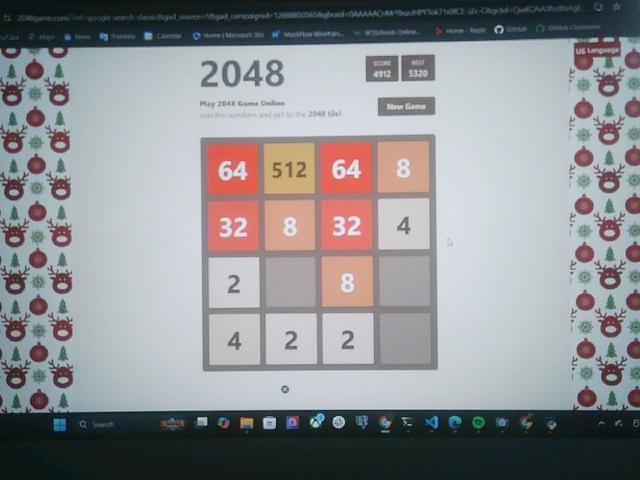board: (201, 137, 438, 372)
tile: (320, 141, 373, 193), (264, 143, 316, 195), (378, 197, 430, 249), (266, 313, 318, 365), (378, 141, 429, 193), (207, 200, 259, 251), (208, 257, 260, 308), (322, 257, 374, 308), (209, 315, 261, 366), (265, 200, 316, 251), (324, 313, 375, 364), (208, 143, 259, 193), (321, 199, 371, 250)
